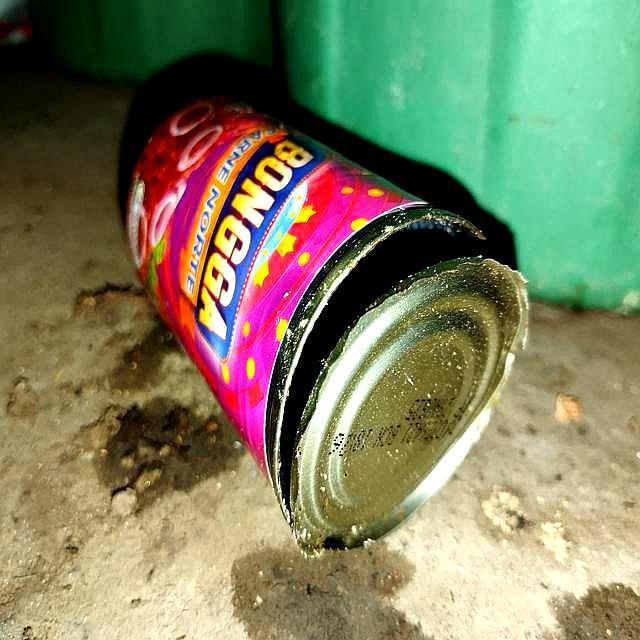Non-biodegradable: (113, 87, 543, 569)
